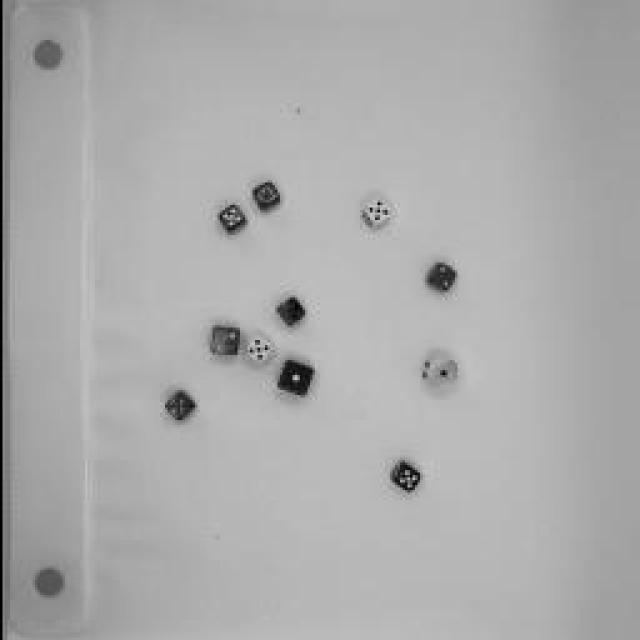dice_1: (275, 356, 315, 399), (418, 352, 454, 392), (250, 180, 280, 215)
dice_2: (418, 249, 458, 306), (201, 316, 241, 366)
dice_5: (158, 389, 198, 429), (388, 458, 428, 498), (240, 335, 275, 370), (358, 195, 392, 230), (268, 299, 302, 329), (213, 204, 245, 234)
